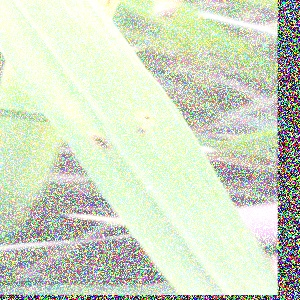Bacterial_Leaf_Blight: (86, 130, 117, 154), (131, 123, 151, 137), (142, 113, 154, 123)
